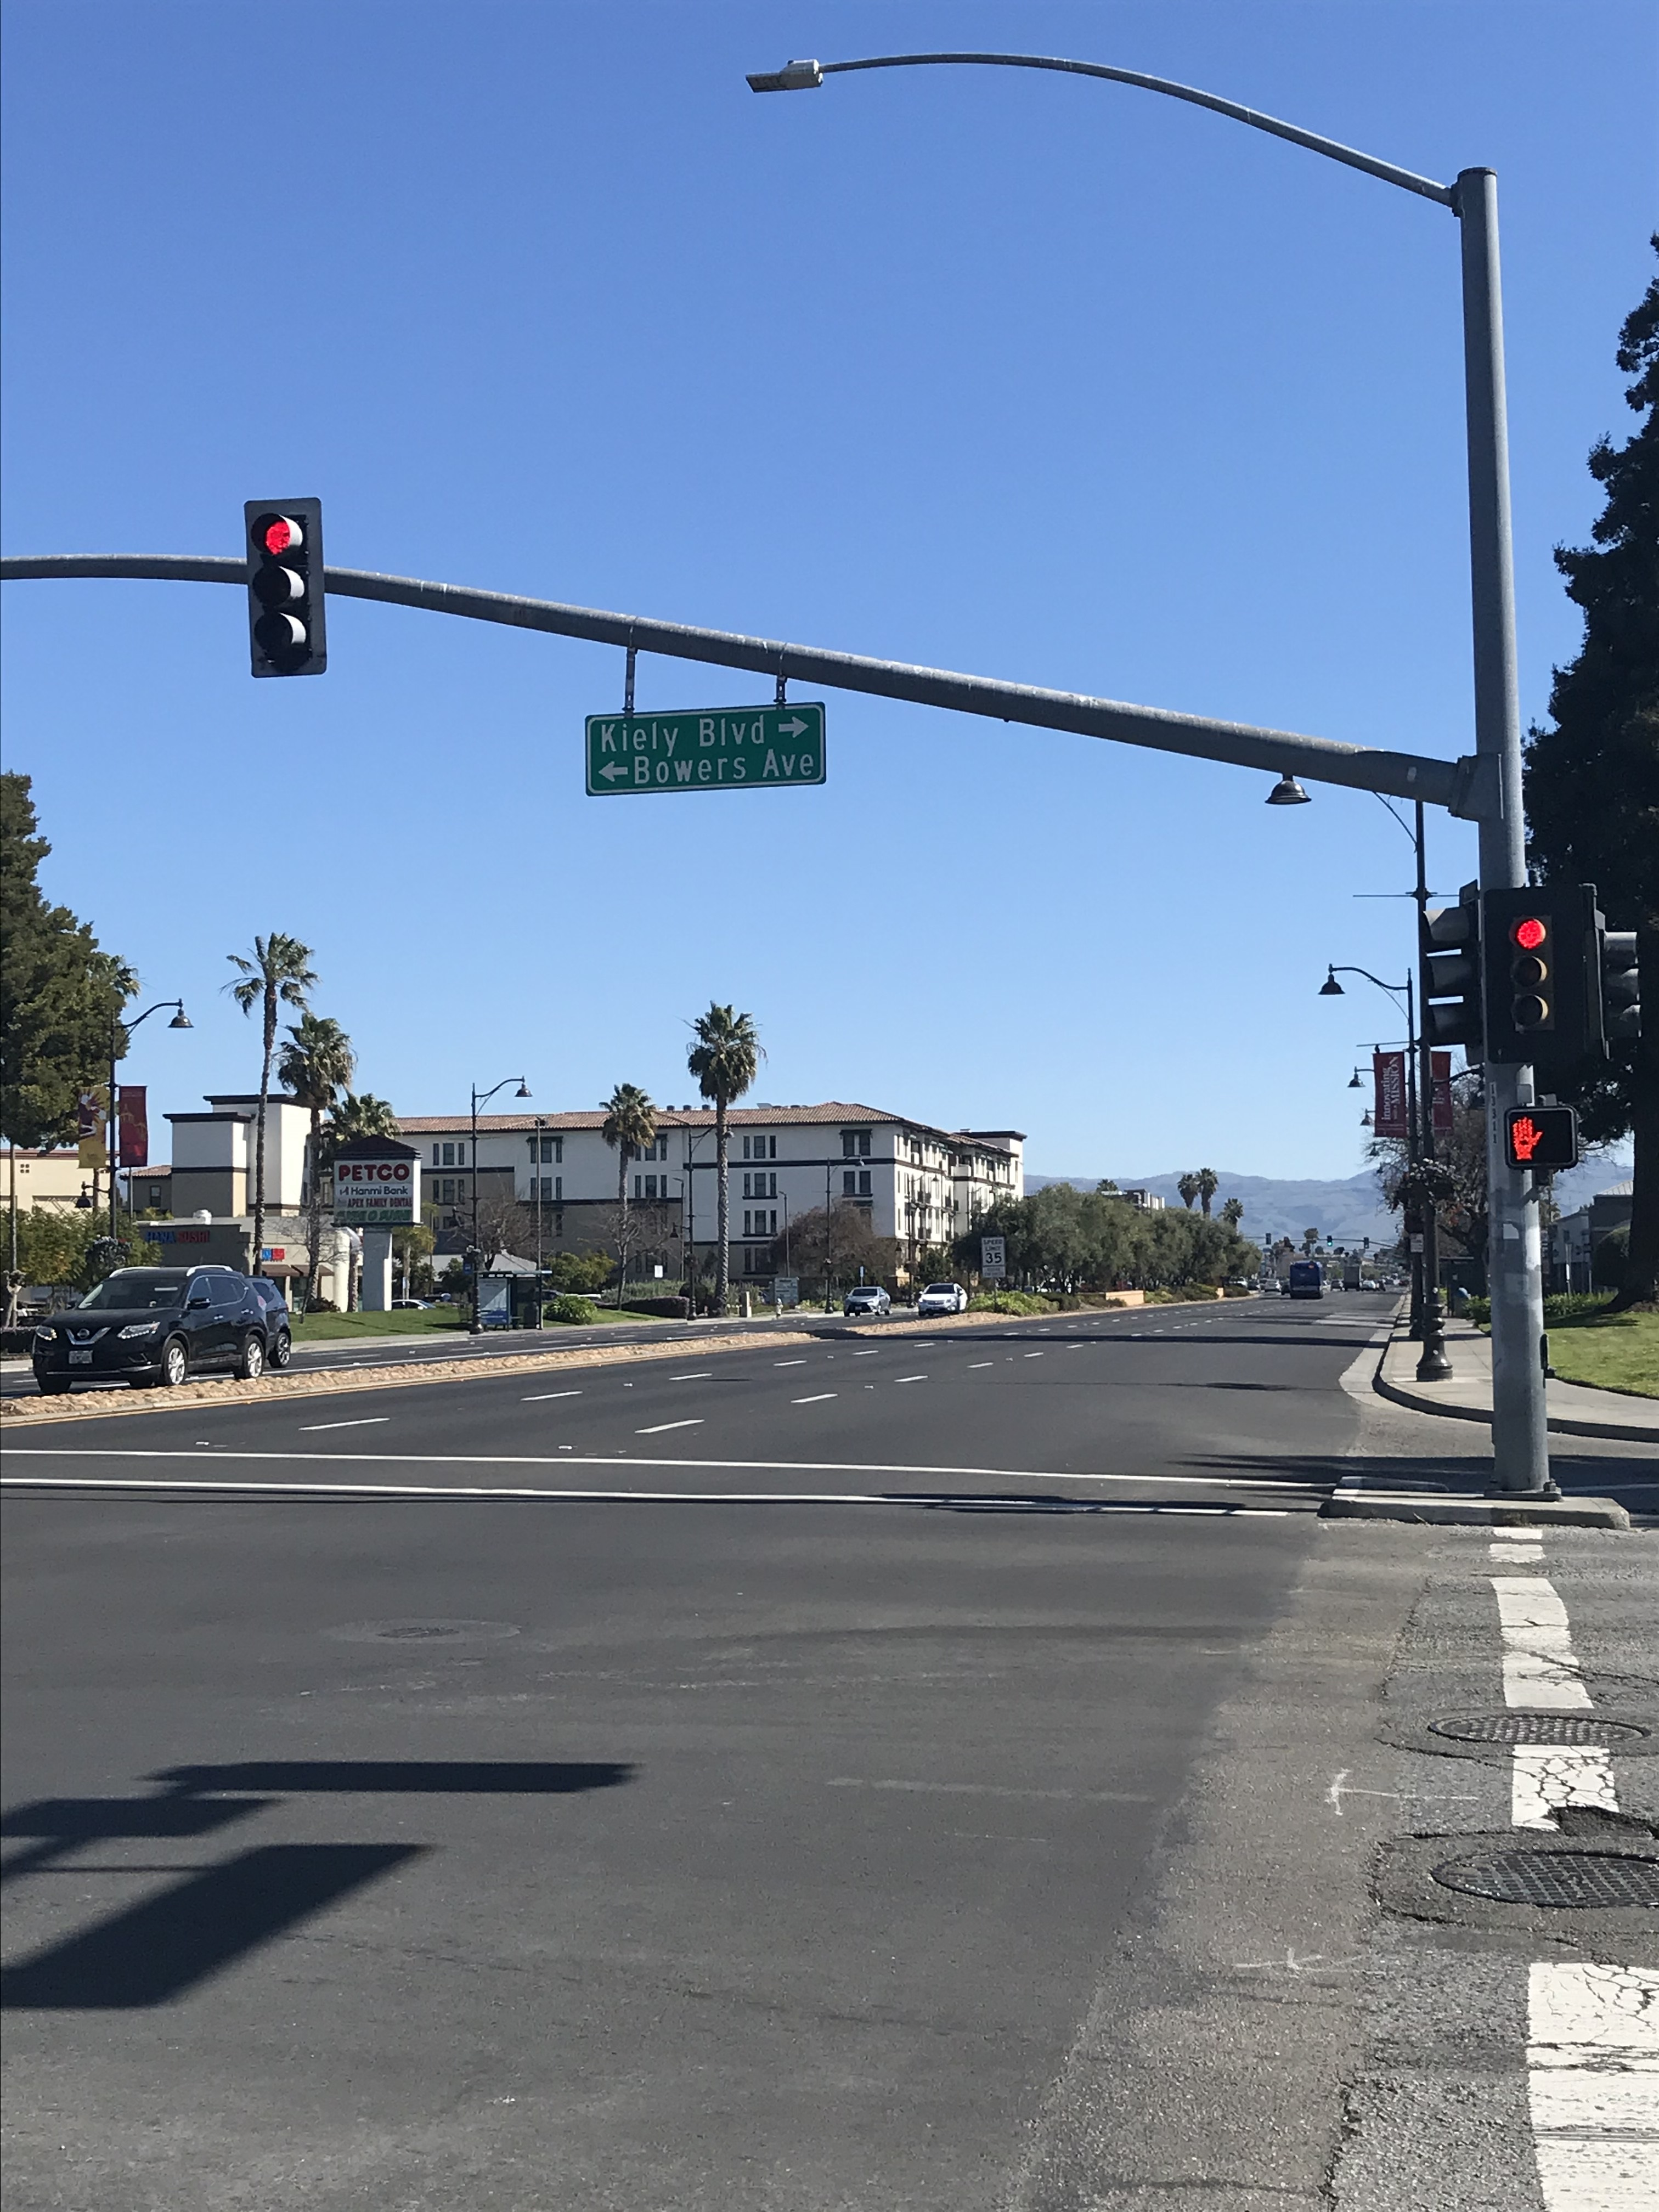red_light: (1492, 892, 1574, 1052), (249, 502, 322, 678)
